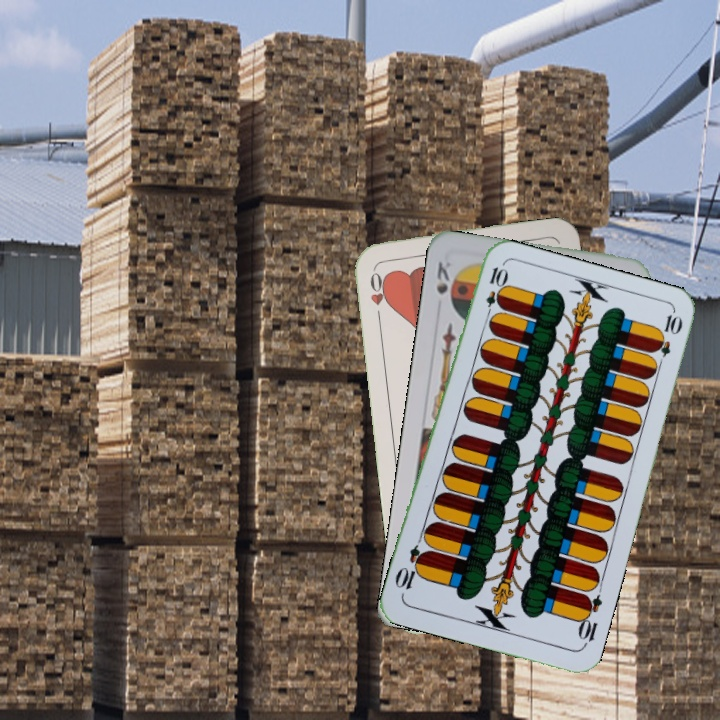E10: (574, 590, 605, 650), (481, 263, 508, 322)
HO: (366, 263, 392, 322)
SK: (432, 257, 454, 297)
